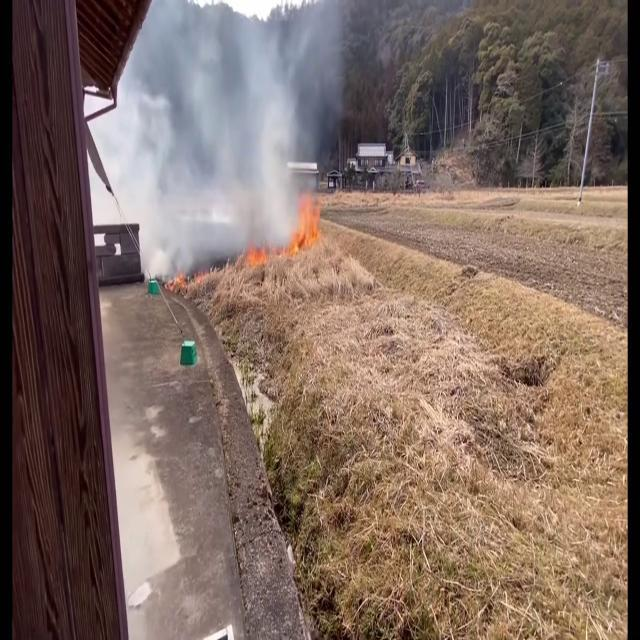Fire: (290, 185, 322, 255)
Smoke: (105, 0, 332, 273)
